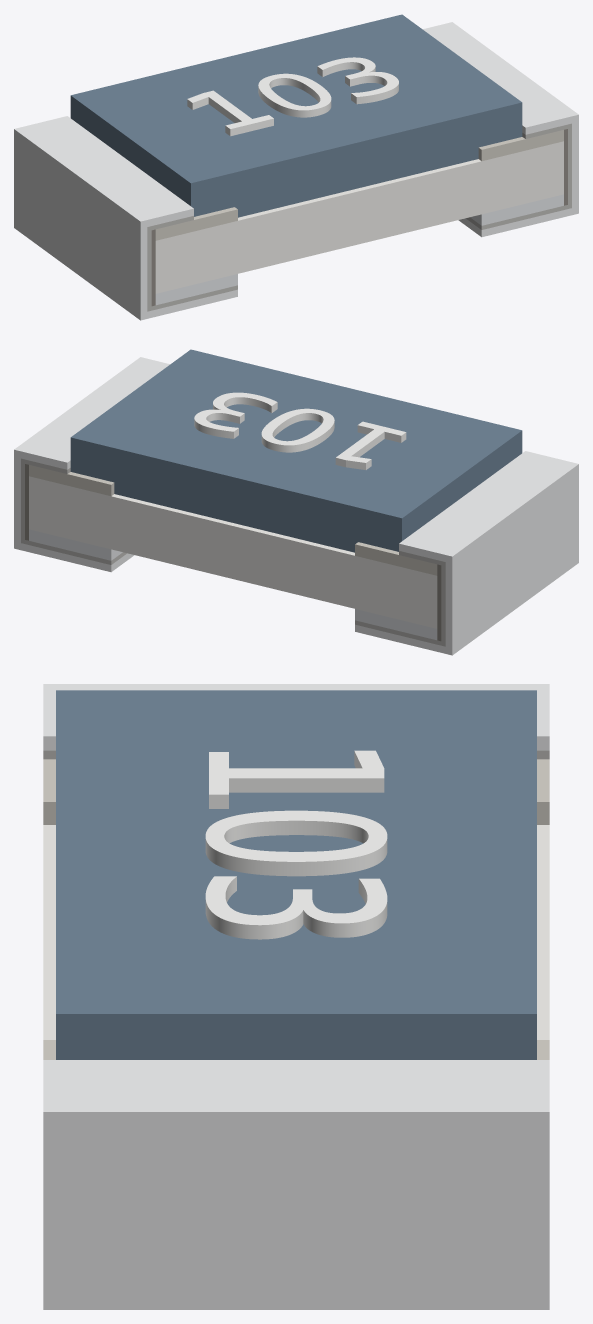
The model's file is chip_resistor_0603_exaggerated.glb.
The picture shows the model from 3 angles, top to bottom: view 1: azimuth 30°, elevation 25°; view 2: azimuth 150°, elevation 25°; view 3: azimuth 270°, elevation 25°; orthographic projection. The views are drawn at different scales.
Visible parts, largest first — view 1: overcoat_secondary, substrate, tin_L, tin_R, marking, top_electrode_R, top_electrode_L, bottom_electrode_R, nickel_R, nickel_L, bottom_electrode_L; view 2: overcoat_secondary, substrate, tin_L, tin_R, marking, top_electrode_R, top_electrode_L, bottom_electrode_R, nickel_R, nickel_L, bottom_electrode_L; view 3: overcoat_secondary, tin_R, marking, substrate, tin_L, top_electrode_L.
Boxes of the visible parts, bbox=[...] form: overcoat_secondary: bbox=[70, 14, 522, 217]; substrate: bbox=[155, 141, 563, 293]; tin_L: bbox=[14, 116, 237, 320]; tin_R: bbox=[423, 22, 578, 237]; marking: bbox=[187, 57, 398, 136]; top_electrode_R: bbox=[478, 130, 563, 161]; top_electrode_L: bbox=[155, 207, 237, 240]; bottom_electrode_R: bbox=[470, 194, 563, 225]; nickel_R: bbox=[466, 123, 571, 229]; nickel_L: bbox=[147, 216, 237, 311]; bottom_electrode_L: bbox=[155, 274, 237, 305]; overcoat_secondary: bbox=[70, 349, 522, 552]; substrate: bbox=[29, 476, 437, 628]; tin_L: bbox=[355, 451, 578, 655]; tin_R: bbox=[14, 357, 169, 572]; marking: bbox=[194, 392, 406, 469]; top_electrode_R: bbox=[29, 465, 114, 496]; top_electrode_L: bbox=[355, 542, 437, 575]; bottom_electrode_R: bbox=[29, 529, 122, 560]; nickel_R: bbox=[21, 458, 126, 564]; nickel_L: bbox=[355, 551, 445, 646]; bottom_electrode_L: bbox=[355, 609, 437, 640]; overcoat_secondary: bbox=[56, 690, 536, 1059]; tin_R: bbox=[43, 1060, 549, 1309]; marking: bbox=[205, 750, 387, 939]; substrate: bbox=[43, 825, 549, 1039]; tin_L: bbox=[43, 684, 549, 750]; top_electrode_L: bbox=[43, 759, 549, 824].
Bounding box in the file's own units: 1.6 × 0.45 × 0.8.
